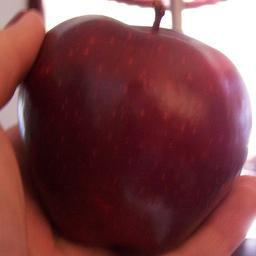apple: (13, 11, 253, 251)
